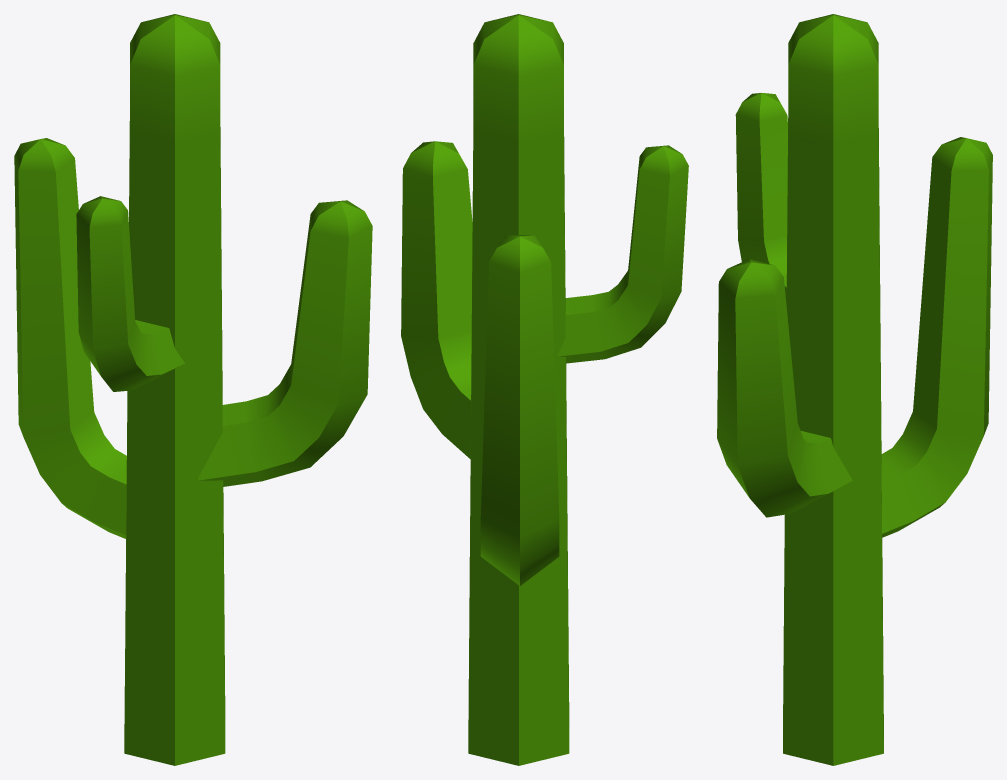
The model's file is cactus1.fbx.
3 renders of one model, left to right at view 1: azimuth 30°, elevation 25°; view 2: azimuth 150°, elevation 25°; view 3: azimuth 270°, elevation 25°, orthographic.
Parts seen in each view (by area): view 1: cactus1; view 2: cactus1; view 3: cactus1.
Boxes of the visible parts, left/top/right/bottom form: cactus1: left=14, top=14, right=372, bottom=765; cactus1: left=401, top=14, right=688, bottom=765; cactus1: left=717, top=14, right=992, bottom=765.
Bounding box in the file's own units: 164 × 412 × 142.
